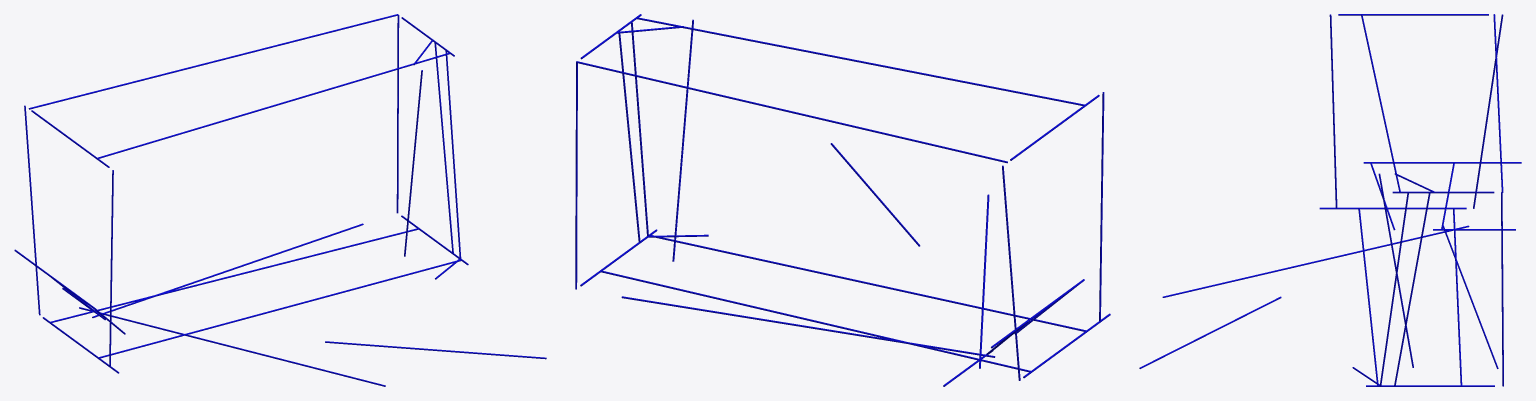
Rendered from corrected_3d_strokes.glb.
The picture shows the model from 3 angles, left to right: view 1: azimuth 30°, elevation 25°; view 2: azimuth 150°, elevation 25°; view 3: azimuth 270°, elevation 25°; orthographic projection. The views are drawn at different scales.
Parts seen in each view (by area): view 1: world; view 2: world; view 3: world.
Boxes of the visible parts, x1=… form: world: x1=14, y1=14, x2=546, y2=386; world: x1=575, y1=14, x2=1110, y2=386; world: x1=1139, y1=14, x2=1521, y2=386.
Size of the model in its own units: 9.91 by 5.06 by 8.98.
